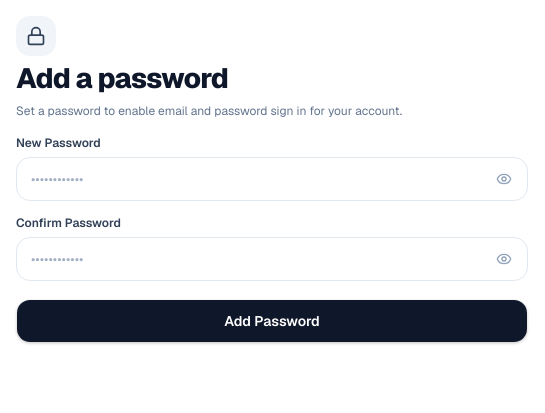
Test: AddPasswordForm › shows validation error when password does not meet complexity requirements
The width and height of the screenshot is (545, 413).
Type "lowercaseonly123" into the password field labelled "New Password" at (272,179), box 16,157 -> 528,201
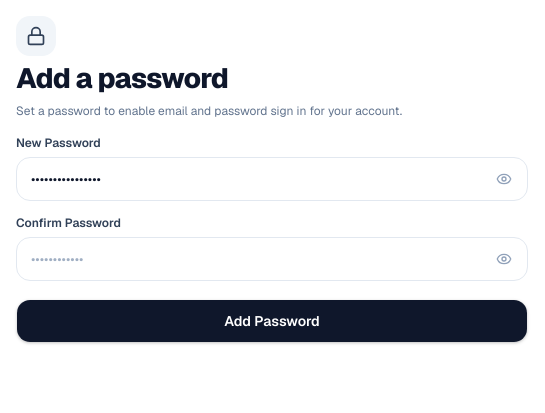
Type "lowercaseonly123" into the password field labelled "Confirm Password" at (272,259), box 16,237 -> 528,281
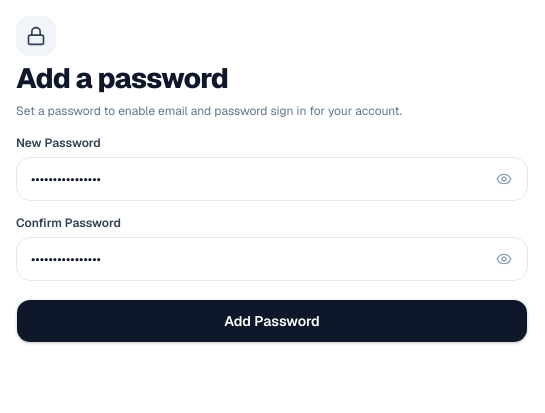
Click the button "Add Password" at (272,321), box 16,299 -> 528,343
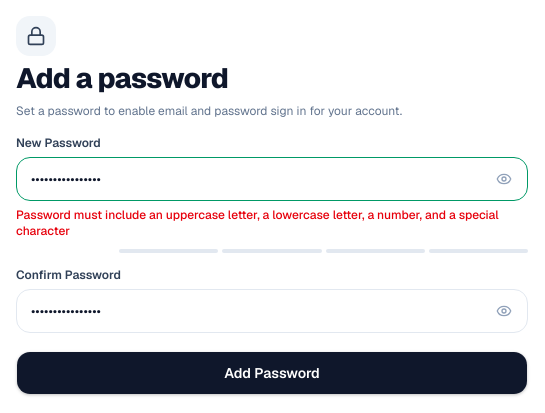
Expected: the text "Password must include an uppercase letter, a lowercase letter, a number, and a special character" is shown, 16,207 -> 499,239
